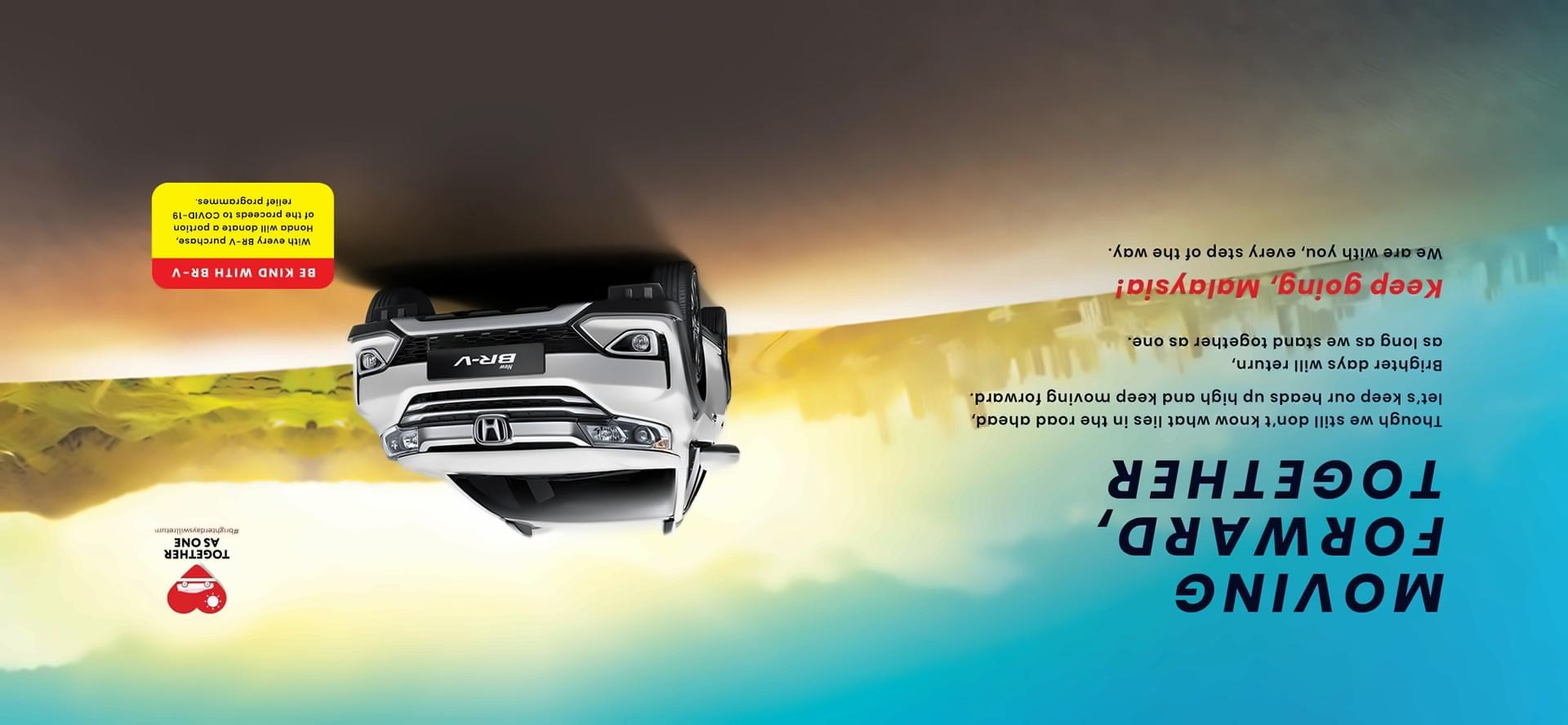Car hood: (392, 447, 693, 479)
Fender - -F-R-: (666, 333, 707, 448)
Front bumper: (342, 294, 698, 416)
Headlight - -L-: (378, 422, 425, 463)
Headlight - -R-: (573, 411, 676, 454)
Side bumper - -R-: (693, 319, 728, 356)
Side mirror - -R-: (694, 438, 748, 475)
